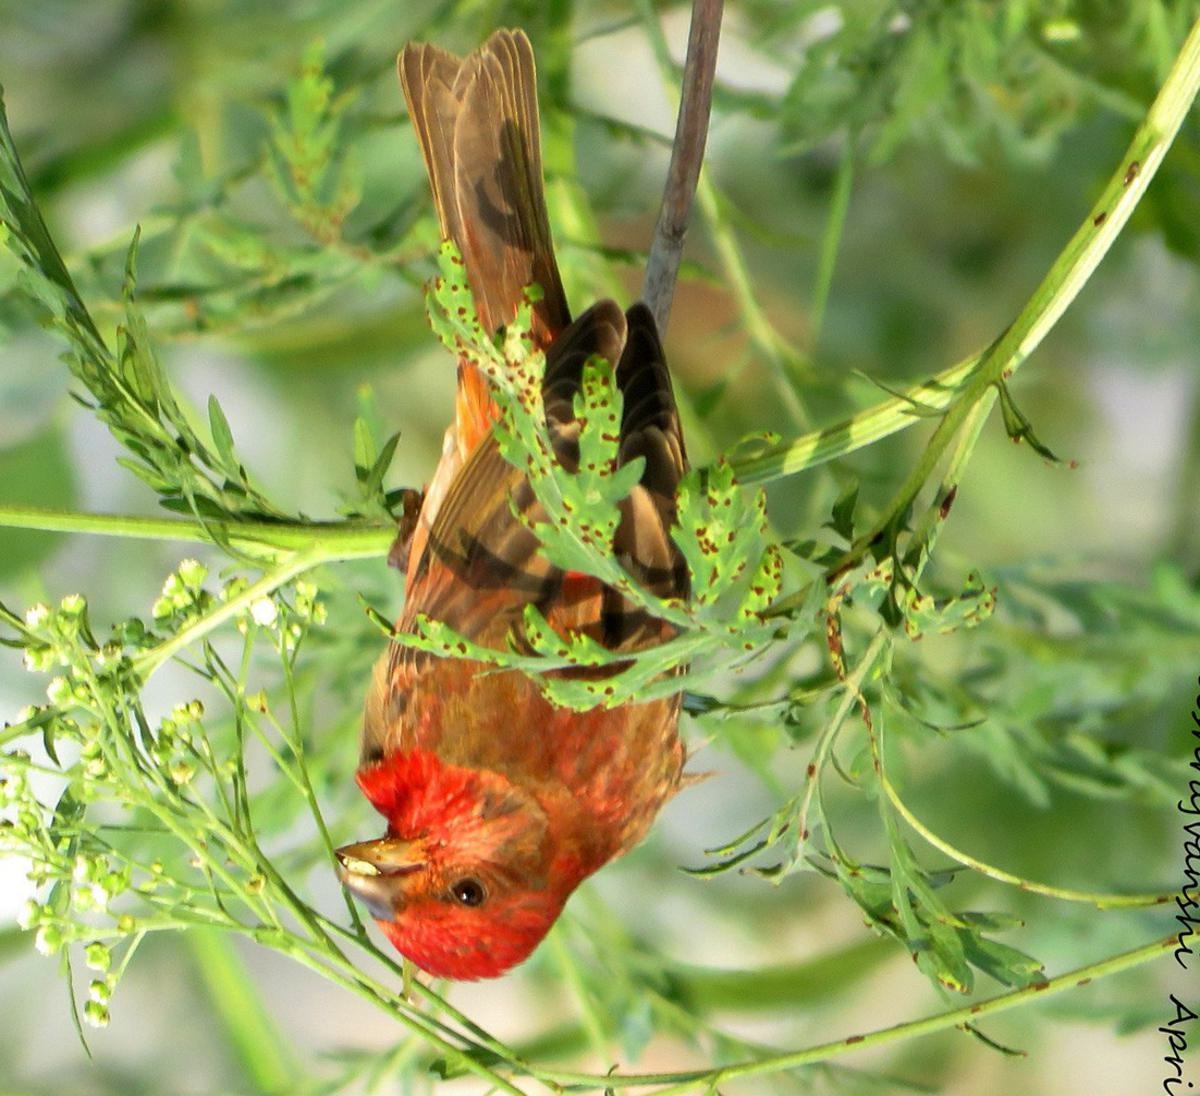rosefinch: (319, 68, 702, 992)
